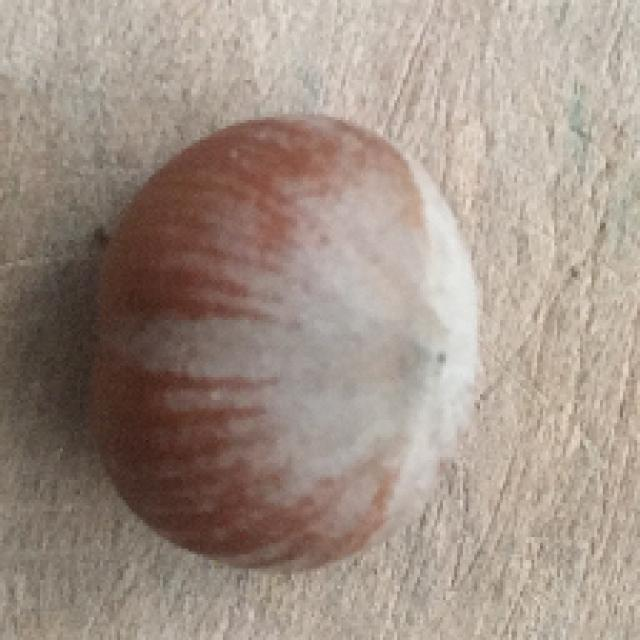qualityHazelnut: (61, 108, 482, 580)
